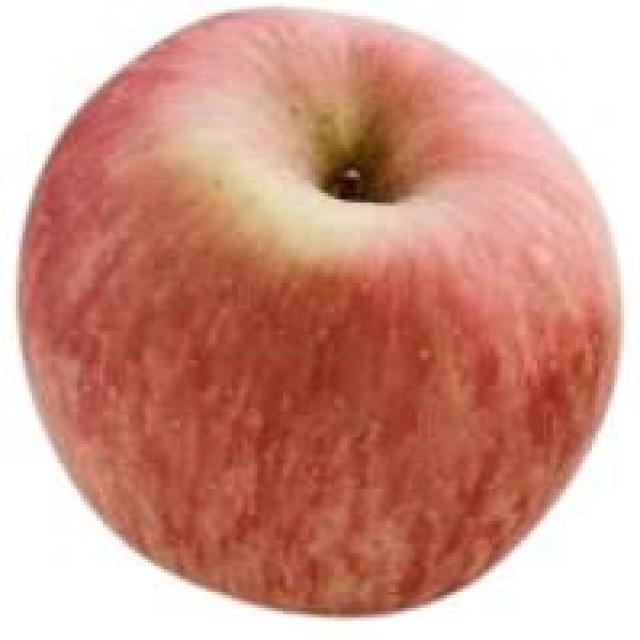Rotten Apple: (18, 8, 626, 619)
